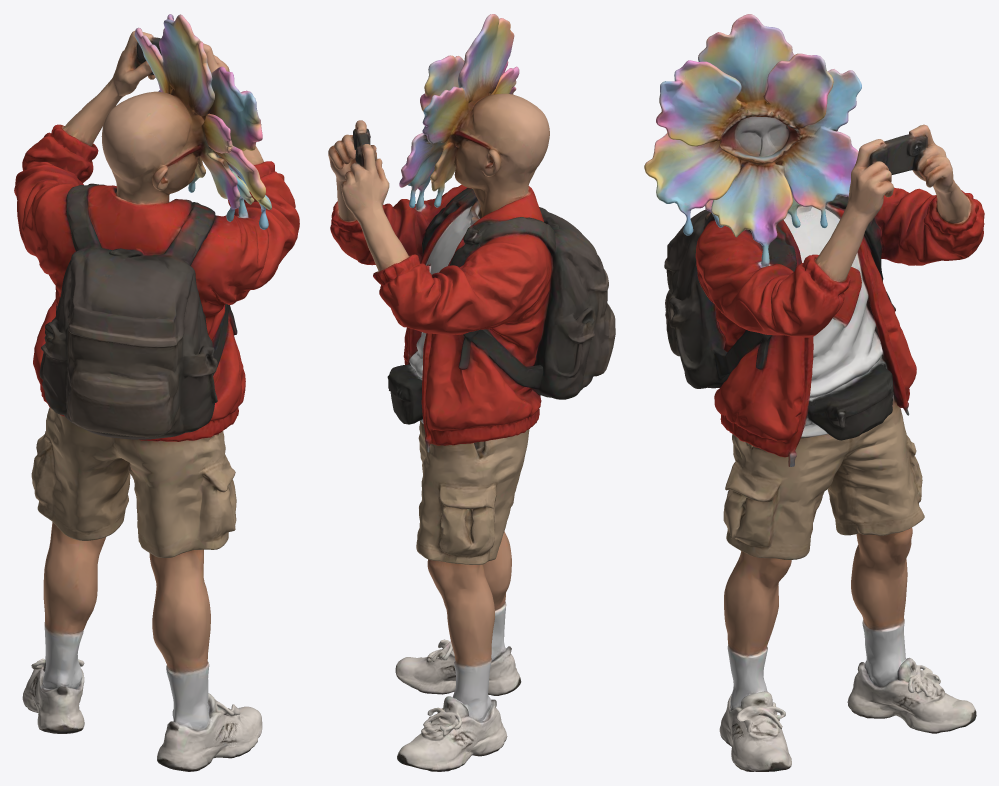
File: oy_tourist.glb
3 renders of one model, left to right at view 1: azimuth 30°, elevation 25°; view 2: azimuth 150°, elevation 25°; view 3: azimuth 270°, elevation 25°, orthographic. The views are drawn at different scales.
Parts seen in each view (by area): view 1: tripo_node_31c2a8af-ddd1-420c-847d-73ae9e4e487a; view 2: tripo_node_31c2a8af-ddd1-420c-847d-73ae9e4e487a; view 3: tripo_node_31c2a8af-ddd1-420c-847d-73ae9e4e487a.
Boxes of the visible parts, bbox=[...] form: tripo_node_31c2a8af-ddd1-420c-847d-73ae9e4e487a: bbox=[14, 14, 299, 771]; tripo_node_31c2a8af-ddd1-420c-847d-73ae9e4e487a: bbox=[328, 14, 615, 771]; tripo_node_31c2a8af-ddd1-420c-847d-73ae9e4e487a: bbox=[644, 14, 984, 771].
Bounding box in the file's own units: 0.3685 × 1 × 0.4246.
Materials: 1 (1 with a texture image).
